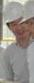hard-hat: (0, 16, 14, 40)
